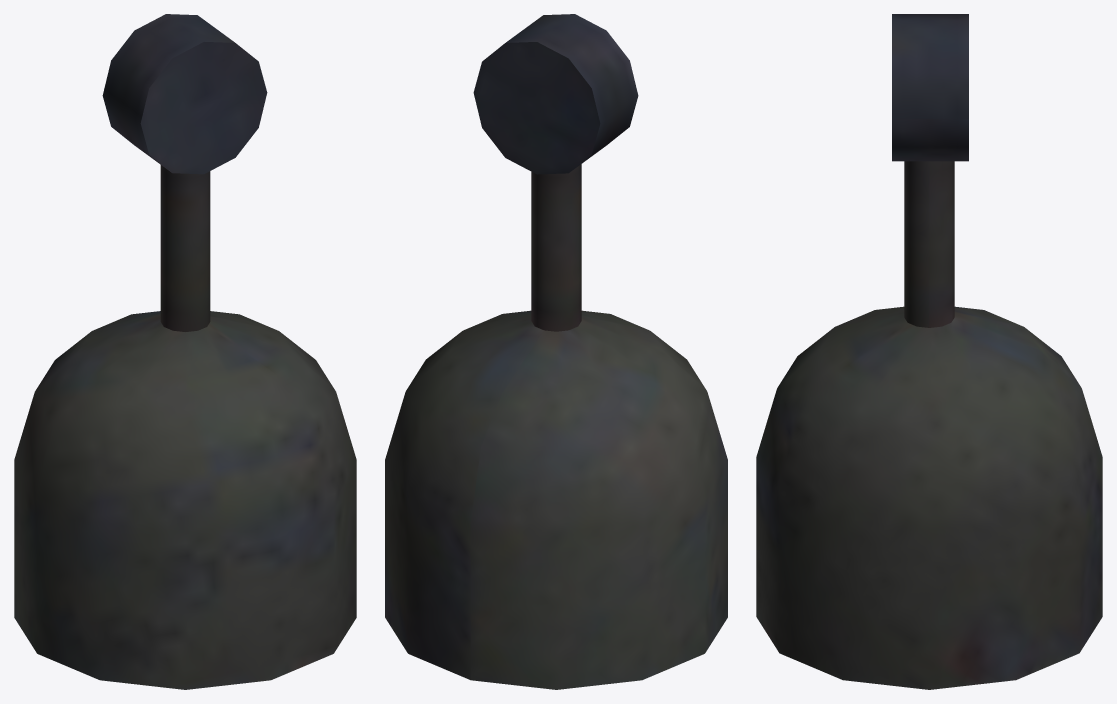
File: CeilingLamp.FBX
3 views of the same model, side by side, from view 1: azimuth 30°, elevation 25°; view 2: azimuth 150°, elevation 25°; view 3: azimuth 270°, elevation 25° (orthographic).
Parts seen in each view (by area): view 1: CeilingLamp; view 2: CeilingLamp; view 3: CeilingLamp.
Boxes of the visible parts, x1=… form: CeilingLamp: x1=14, y1=14, x2=356, y2=689; CeilingLamp: x1=385, y1=14, x2=727, y2=689; CeilingLamp: x1=756, y1=14, x2=1102, y2=689.
Bounding box in the file's own units: 19.09 × 36.25 × 19.09.
